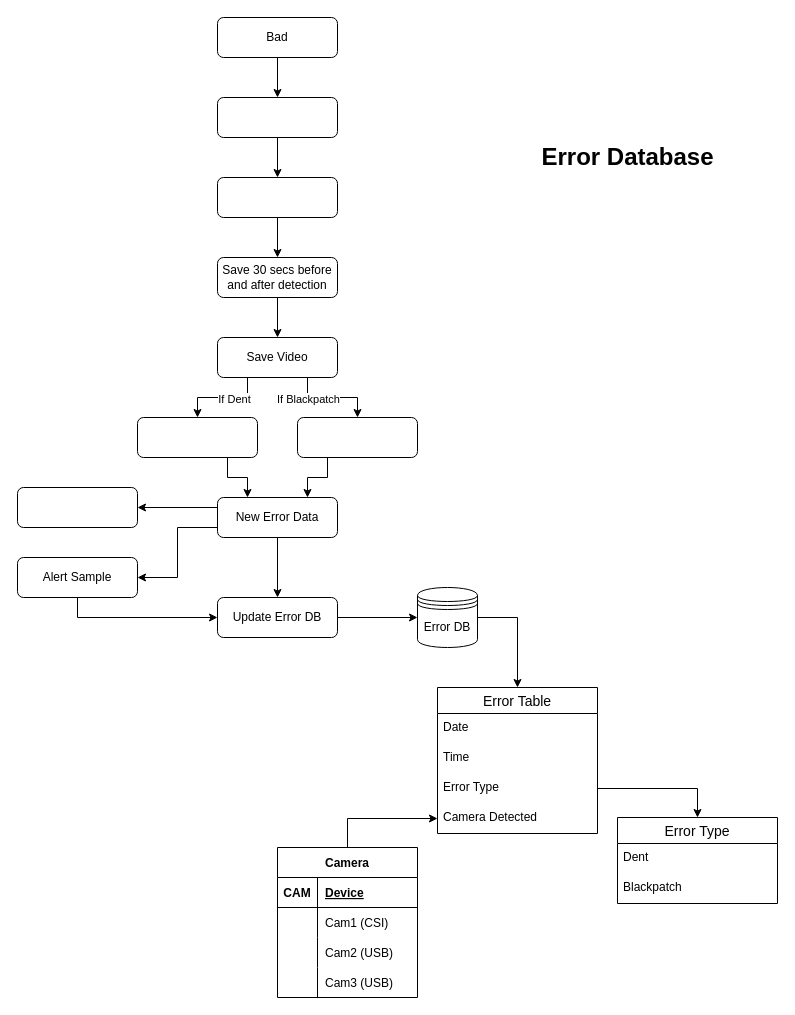
This 795x1015 diagram has some shape labels left out. The shapes that lost their labels are listed below. From the top down, each one's centre as x and y in pixels, then its label:
At pixel 277 117: "Machine Power Status OFF".
At pixel 277 197: "Signal to Bulb".
At pixel 197 437: "Dent Folder".
At pixel 357 437: "Black Patch Folder".
At pixel 77 507: "Retrain Data".
